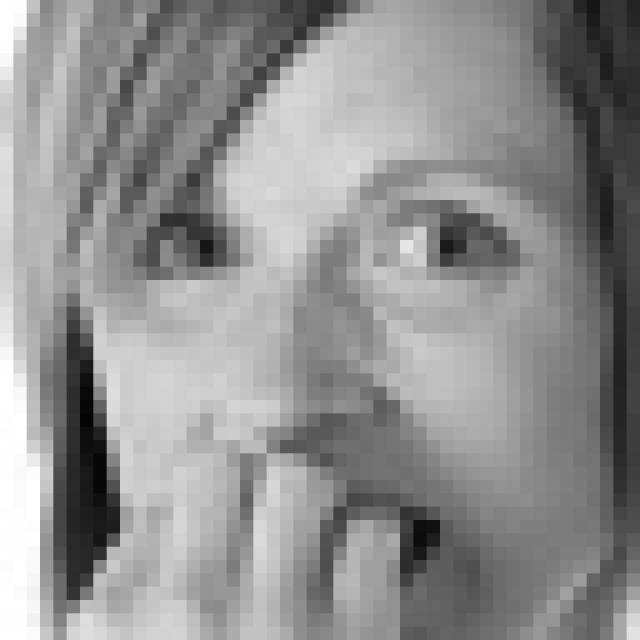fear: (123, 145, 602, 598)
